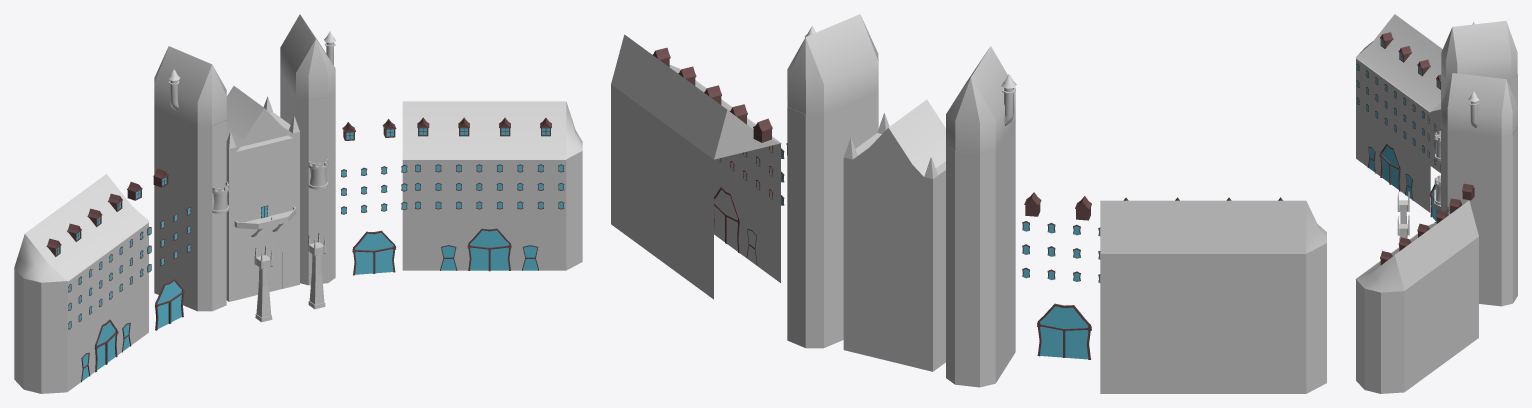
The model's file is CastleModel.FBX.
The picture shows the model from 3 angles, left to right: view 1: azimuth 30°, elevation 25°; view 2: azimuth 150°, elevation 25°; view 3: azimuth 270°, elevation 25°; orthographic projection. The views are drawn at different scales.
Parts seen in each view (by area): view 1: Castle_building3&4_wall_front&back2, Castle_building3&4_wall_front&back3, Castle_building2_wall_front&back, Castle_building1_wall_front, Castle_building_wall_expansion, Castle_building3&4_top_normal1, Castle_building3&4_top_normal2, Castel_building2_wall_sides, Castle_building2_top_front&back, Castle_building1_top, Castle_building2_top_sides, Castle_window_big1 (+12 smaller); view 2: Castle_building3&4_wall_front&back4, Castle_building3&4_wall_front&back5, Castle_building2_wall_front&back1, Castle_building1_wall_back, Castle_building3&4_top_normal2, Castle_building3&4_top_normal1, Castel_building2_wall_sides1, Castle_building3&4_wall_front&back2, Castle_building1_top, Castel_building2_wall_sides, Castle_building2_top_front&back1, Castle_building2_top_sides1 (+8 smaller); view 3: Castel_building2_wall_sides, Castle_building_wall_expansion, Castle_building3&4_wall_front&back5, Castle_building3&4_top_normal2, Castle_building3&4_wall_front&back4, Castle_building3&4_top_normal1, Castle_building3&4_wall_front&back2, Castle_building3&4_wall_front&back3, Castle_building2_wall_front&back1, Castle_building2_top_sides, Castle_building2_top_sides1, Castle_building3&4_top_expansion (+16 smaller).
Part boxes in pixels (box(x1,y1,x2,y2)): Castle_building3&4_wall_front&back2: box(108, 160, 484, 355); Castle_building3&4_wall_front&back3: box(67, 160, 566, 391); Castle_building2_wall_front&back: box(197, 92, 335, 311); Castle_building1_wall_front: box(229, 136, 299, 301); Castle_building_wall_expansion: box(14, 151, 582, 393); Castle_building3&4_top_normal1: box(66, 101, 484, 251); Castle_building3&4_top_normal2: box(25, 101, 566, 281); Castel_building2_wall_sides: box(154, 97, 327, 311); Castle_building2_top_front&back: box(197, 39, 335, 125); Castle_building1_top: box(226, 86, 299, 153); Castle_building2_top_sides: box(154, 19, 332, 125); Castle_window_big1: box(155, 230, 396, 330); Castle_building3&4_wall_front&back4: box(662, 122, 1203, 393); Castle_building3&4_wall_front&back5: box(611, 84, 1306, 393); Castle_building2_wall_front&back1: box(787, 107, 995, 387); Castle_building1_wall_back: box(843, 163, 932, 371); Castle_building3&4_top_normal2: box(611, 34, 1306, 253); Castle_building3&4_top_normal1: box(662, 72, 1203, 253); Castel_building2_wall_sides1: box(824, 92, 963, 347); Castle_building3&4_wall_front&back2: box(729, 143, 780, 282); Castle_building1_top: box(843, 99, 966, 184); Castel_building2_wall_sides: box(787, 101, 1015, 383); Castle_building2_top_front&back1: box(787, 37, 995, 153); Castle_building2_top_sides1: box(806, 14, 988, 114); Castel_building2_wall_sides: box(1447, 131, 1501, 306); Castle_building_wall_expansion: box(1356, 279, 1404, 393); Castle_building3&4_wall_front&back5: box(1404, 109, 1441, 392); Castle_building3&4_top_normal2: box(1355, 14, 1441, 290); Castle_building3&4_wall_front&back4: box(1441, 237, 1478, 364); Castle_building3&4_top_normal1: box(1393, 41, 1478, 263); Castle_building3&4_wall_front&back2: box(1393, 86, 1430, 212); Castle_building3&4_wall_front&back3: box(1356, 58, 1393, 176); Castle_building2_wall_front&back1: box(1501, 74, 1517, 306); Castle_building2_top_sides: box(1447, 73, 1506, 137); Castle_building2_top_sides1: box(1452, 21, 1511, 79); Castle_building3&4_top_expansion: box(1356, 41, 1404, 292).
Bounding box in the file's own units: 15779 × 6500 × 4363.
